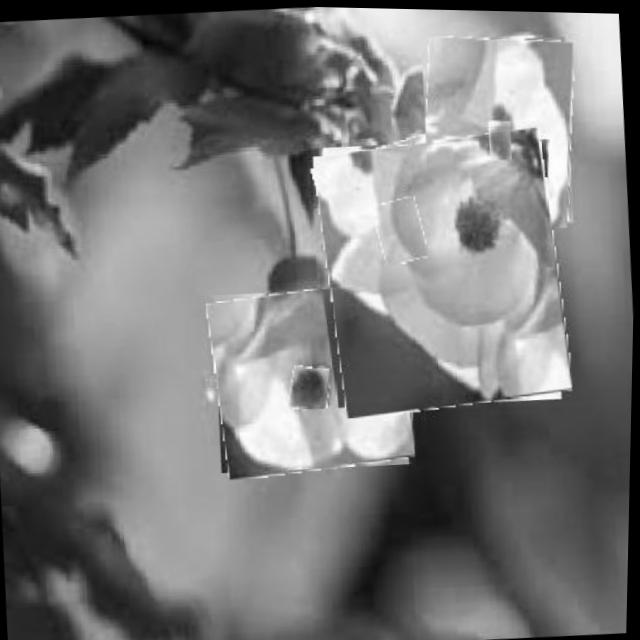Flower: (313, 124, 575, 419), (207, 277, 419, 479), (316, 125, 506, 343), (414, 28, 583, 235), (375, 194, 428, 263), (290, 363, 334, 411), (487, 118, 514, 160)
